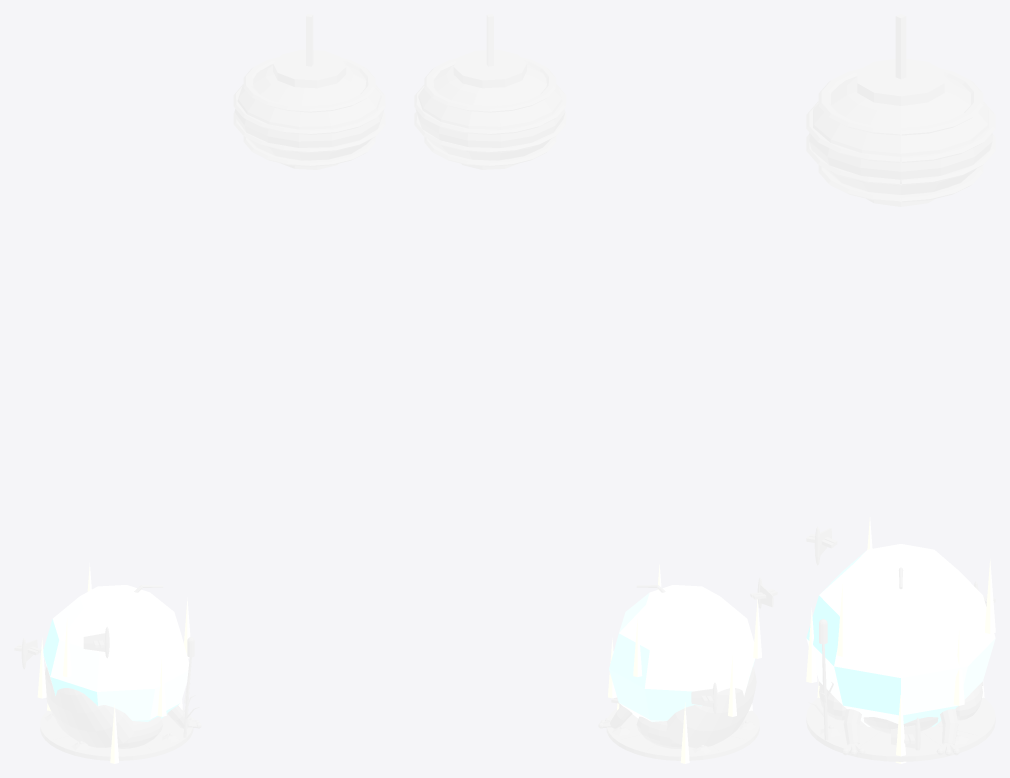
The model's file is maitre-marais-v5.glb.
3 views of the same model, side by side, from view 1: azimuth 30°, elevation 25°; view 2: azimuth 150°, elevation 25°; view 3: azimuth 270°, elevation 25° (orthographic). The views are drawn at different scales.
Parts seen in each view (by area): view 1: maitre_marais_lanterne.002, maitre_marais_lumieres.001, maitre_marais_corps.002, maitre_marais_flammes.002, maitre_marais_libellules.002; view 2: maitre_marais_lanterne.002, maitre_marais_lumieres.001, maitre_marais_corps.002, maitre_marais_flammes.002, maitre_marais_libellules.002; view 3: maitre_marais_lumieres.001, maitre_marais_lanterne.002, maitre_marais_corps.002, maitre_marais_flammes.002, maitre_marais_libellules.002.
Part boxes in pixels (<box>): maitre_marais_lanterne.002: <box>233,14,385,169</box>; maitre_marais_lumieres.001: <box>43,585,189,721</box>; maitre_marais_corps.002: <box>40,585,201,760</box>; maitre_marais_flammes.002: <box>37,563,190,763</box>; maitre_marais_libellules.002: <box>14,626,109,669</box>; maitre_marais_lanterne.002: <box>414,14,566,169</box>; maitre_marais_lumieres.001: <box>609,585,755,721</box>; maitre_marais_corps.002: <box>598,585,759,760</box>; maitre_marais_flammes.002: <box>608,564,761,763</box>; maitre_marais_libellules.002: <box>611,577,777,713</box>; maitre_marais_lumieres.001: <box>806,544,995,726</box>; maitre_marais_lanterne.002: <box>806,14,995,206</box>; maitre_marais_corps.002: <box>806,567,995,761</box>; maitre_marais_flammes.002: <box>806,517,995,763</box>; maitre_marais_libellules.002: <box>806,526,995,750</box>.
Bounding box in the file's own units: 4.9 × 9.6 × 2.
